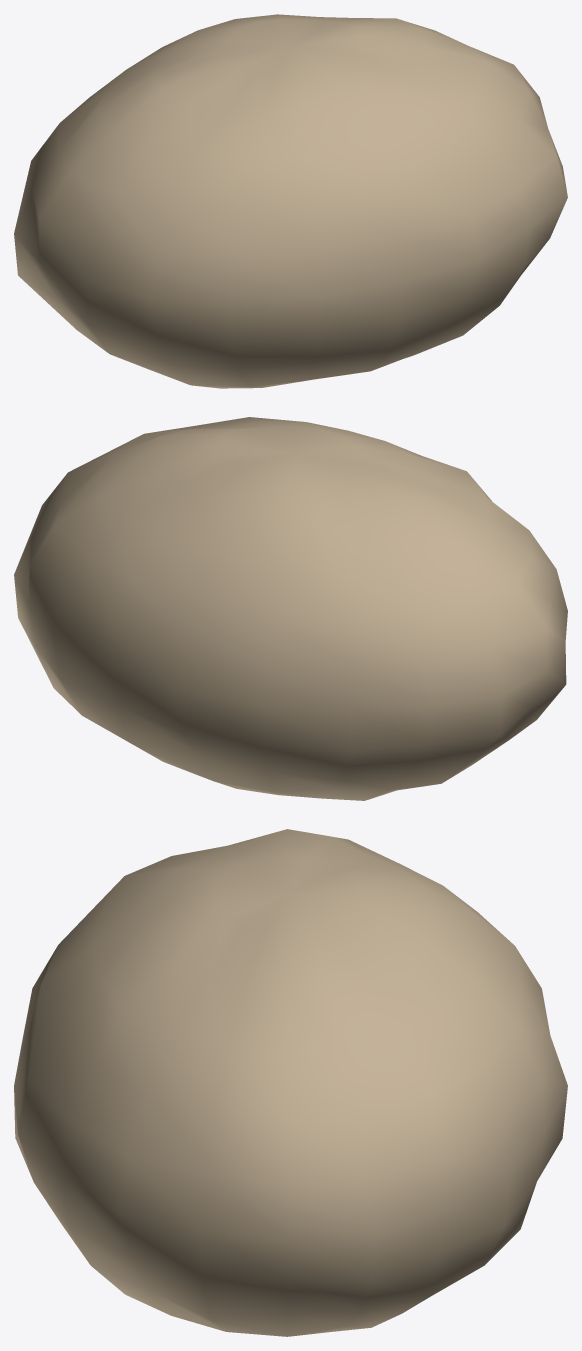
Rendered from hero-pebble-1.glb.
The picture shows the model from 3 angles, top to bottom: view 1: azimuth 30°, elevation 25°; view 2: azimuth 150°, elevation 25°; view 3: azimuth 270°, elevation 25°; orthographic projection. The views are drawn at different scales.
Parts seen in each view (by area): view 1: Water worn river pebble.001; view 2: Water worn river pebble.001; view 3: Water worn river pebble.001.
Boxes of the visible parts, bbox=[...] form: Water worn river pebble.001: bbox=[14, 14, 567, 388]; Water worn river pebble.001: bbox=[14, 417, 567, 800]; Water worn river pebble.001: bbox=[14, 829, 567, 1336].
Size of the model in its own units: 0.02 by 0.0121 by 0.0152.
